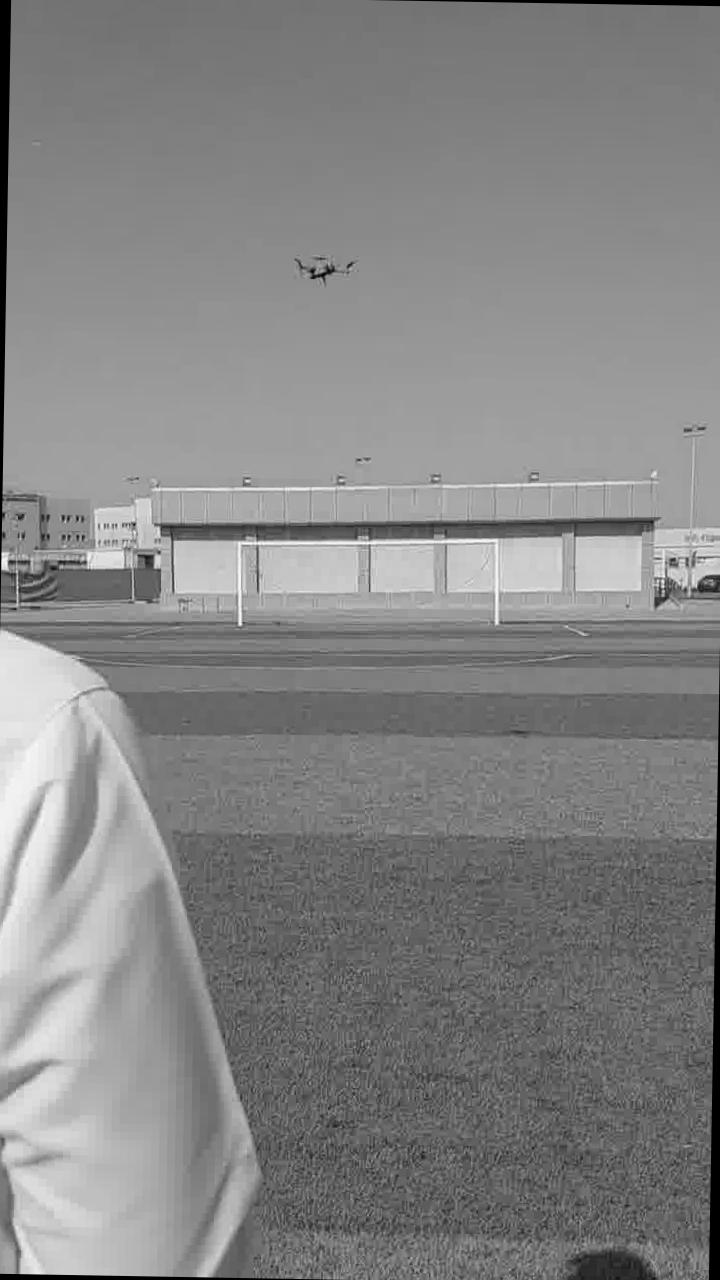drone: (287, 239, 357, 290)
